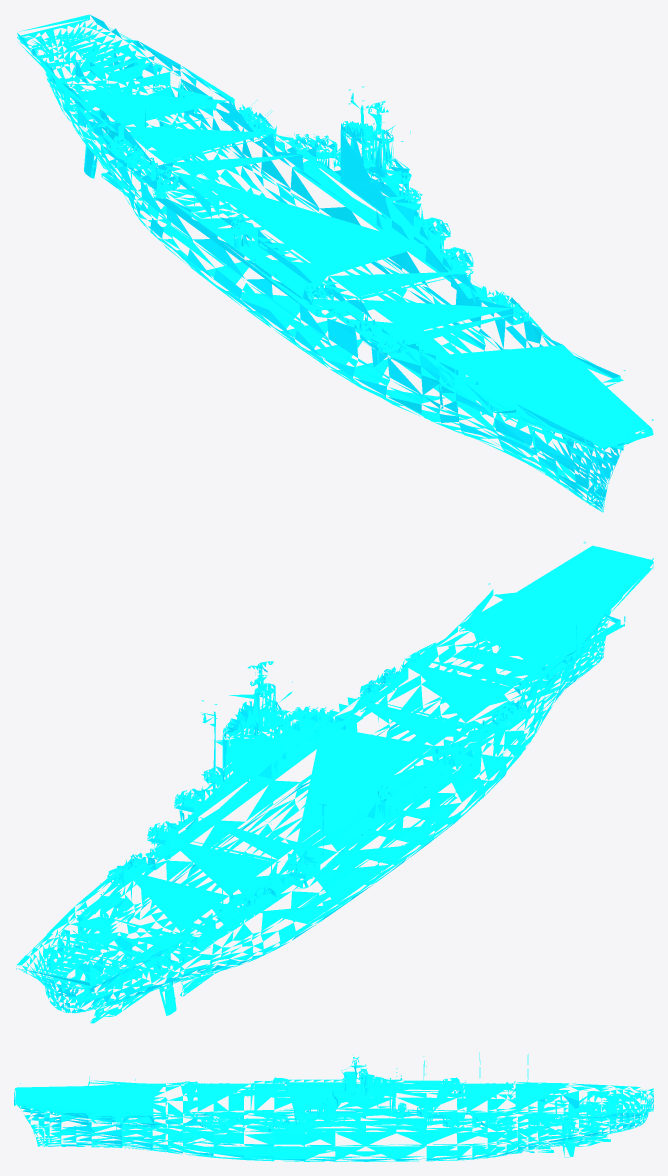
The model's file is PRSA110.glb.
3 renders of one model, top to bottom at view 1: azimuth 30°, elevation 25°; view 2: azimuth 150°, elevation 25°; view 3: azimuth 270°, elevation 25°, orthographic. The views are drawn at different scales.
Parts seen in each view (by area): view 1: hull, turret; view 2: hull, turret; view 3: hull, turret.
Part boxes in pixels (x1,y1,x2,y2): hull: (17, 14, 653, 512); turret: (147, 133, 473, 305); hull: (16, 541, 653, 1023); turret: (147, 706, 473, 879); hull: (14, 1052, 653, 1161); turret: (266, 1077, 466, 1127).
Bounding box in the file's own units: 3.19 × 3.33 × 18.21.
